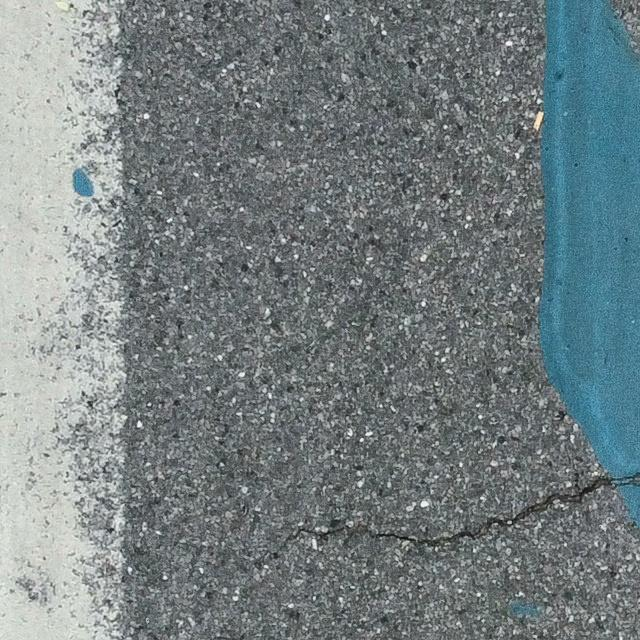TransverseCrack: (269, 473, 640, 559)
